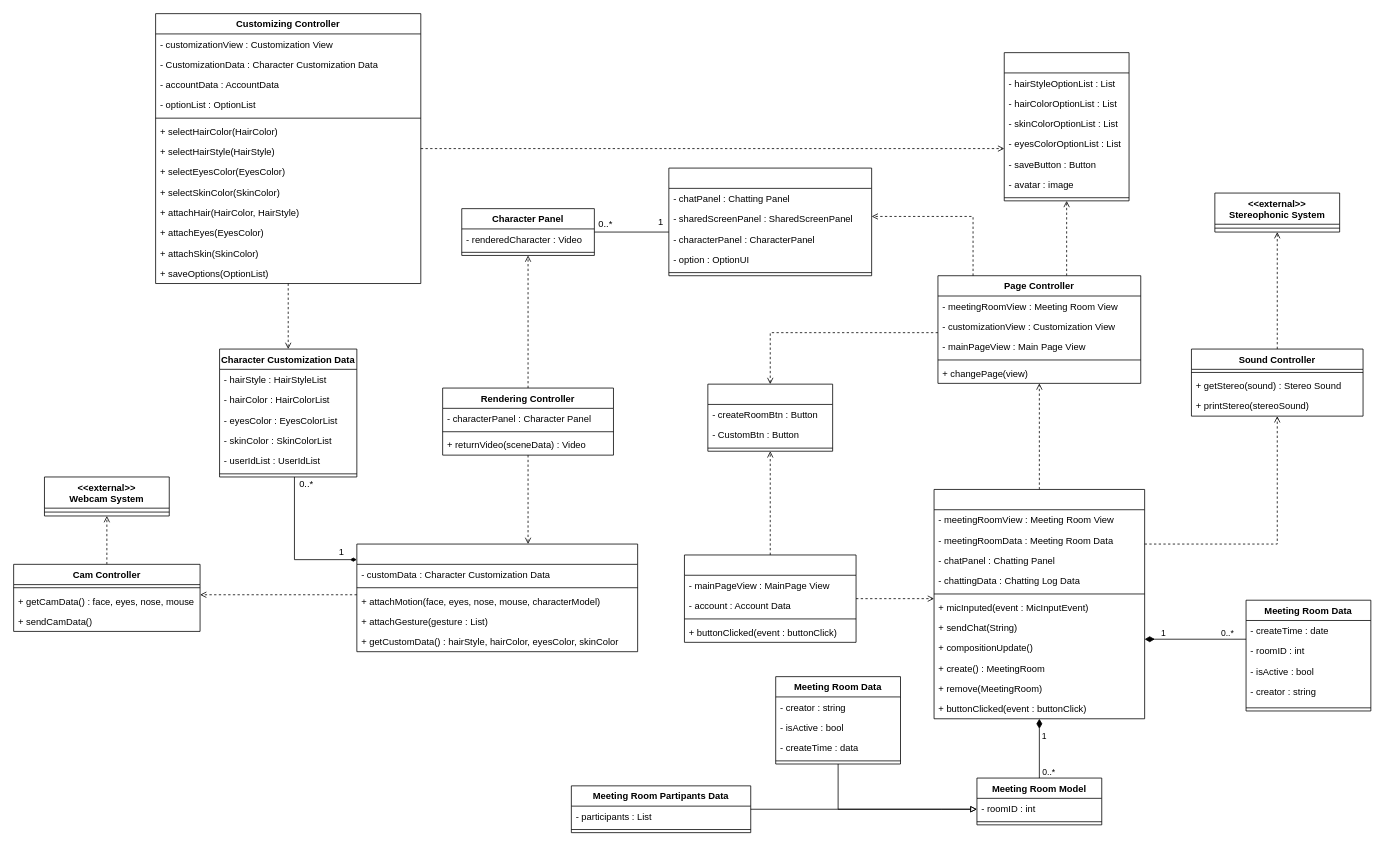
This 1385x846 diagram has some shape labels left out. Here are the shapes that lost their labels. From the top down, the box of each, then its label:
(1003, 52, 1129, 201): Customization View
(668, 167, 872, 276): Meeting Room View
(707, 383, 833, 451): Main Page View
(356, 543, 638, 652): Character Controller
(684, 554, 856, 642): Main Controller
(933, 489, 1145, 719): Meeting Room Controller
